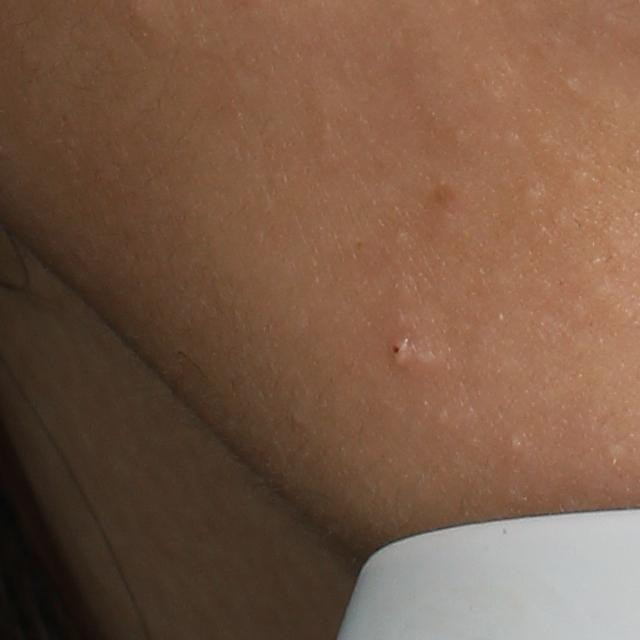comedo: (502, 435, 526, 454)
